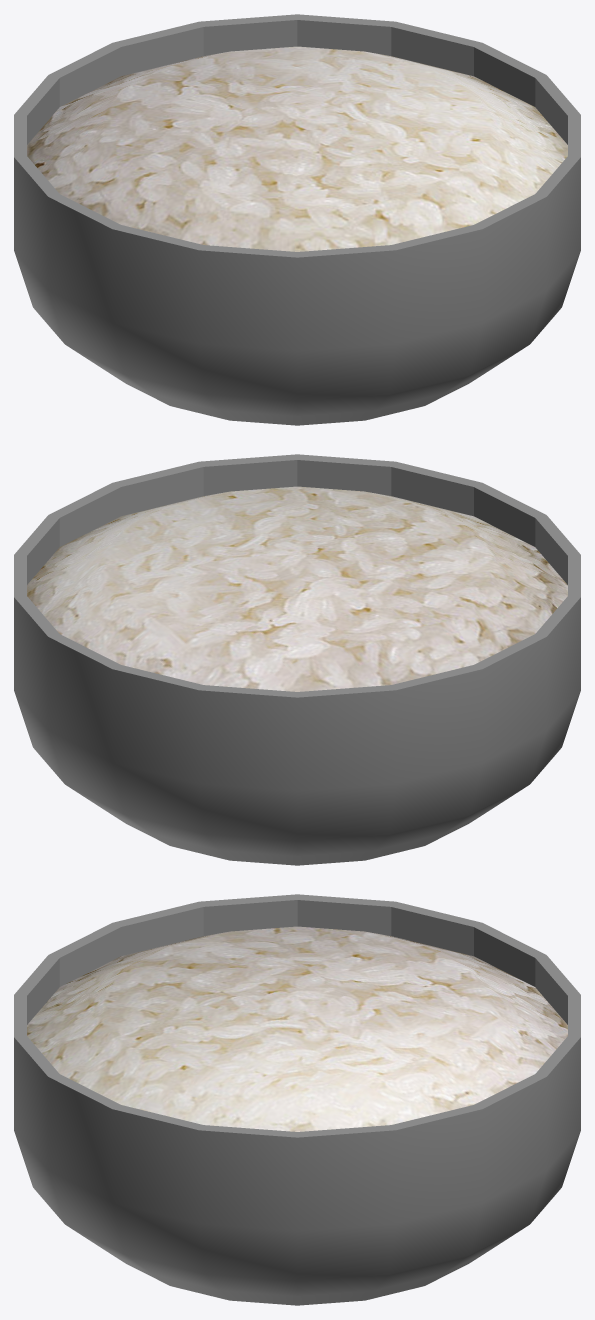
The model's file is rice.FBX.
3 renders of one model, top to bottom at view 1: azimuth 30°, elevation 25°; view 2: azimuth 150°, elevation 25°; view 3: azimuth 270°, elevation 25°, orthographic.
Parts seen in each view (by area): view 1: Object014; view 2: Object014; view 3: Object014.
Boxes of the visible parts, box(x1,y1,x2,y2) form: Object014: box(14, 14, 580, 425); Object014: box(14, 454, 580, 865); Object014: box(14, 894, 580, 1305).
Bounding box in the file's own units: 17.26 × 7.53 × 17.
